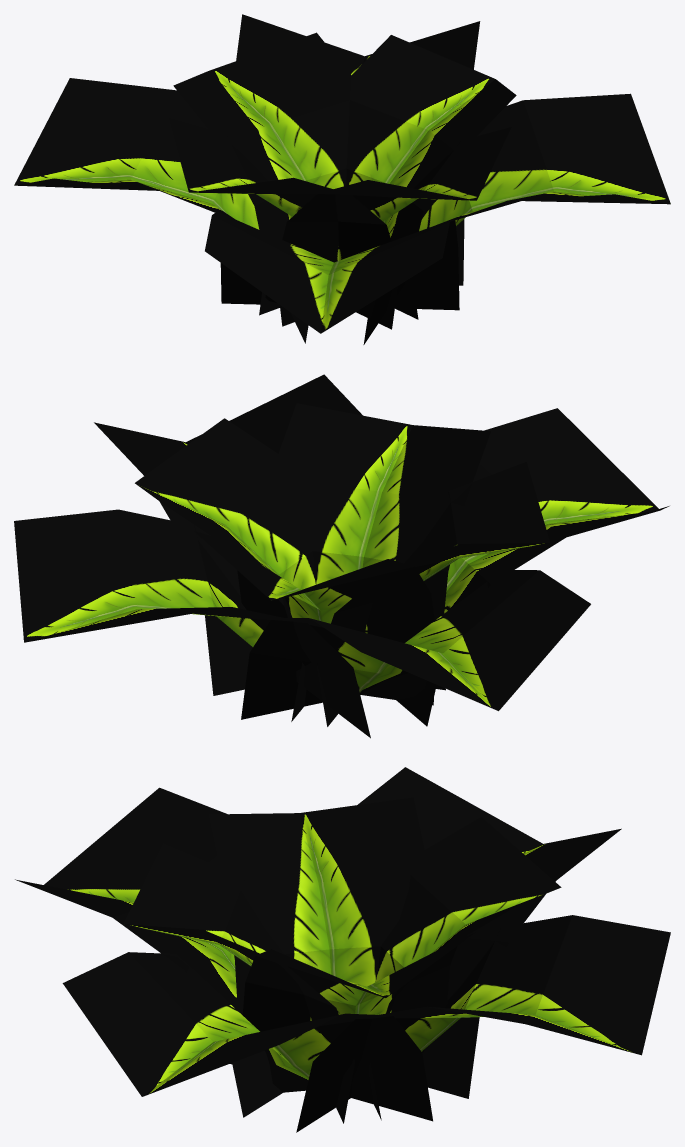
The model's file is SM_Frond.fbx.
3 renders of one model, top to bottom at view 1: azimuth 30°, elevation 25°; view 2: azimuth 150°, elevation 25°; view 3: azimuth 270°, elevation 25°, orthographic. The views are drawn at different scales.
Parts seen in each view (by area): view 1: Frond; view 2: Frond; view 3: Frond.
Boxes of the visible parts, left/top/right/bottom form: Frond: left=14, top=14, right=670, bottom=344; Frond: left=14, top=374, right=669, bottom=738; Frond: left=15, top=767, right=670, bottom=1132.
Bounding box in the file's own units: 247 × 85.56 × 247.
Materials: 1 (1 with a texture image).
